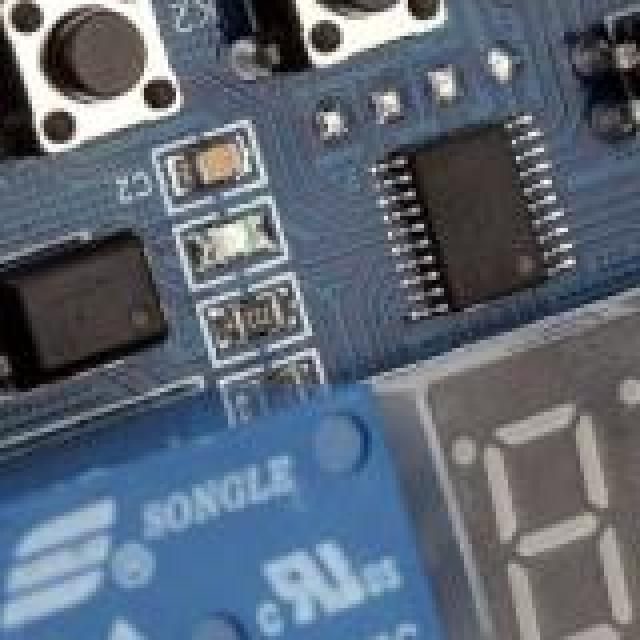IC: (400, 112, 558, 318), (0, 224, 160, 380), (600, 0, 640, 128)
LED: (196, 196, 270, 266)
capacitor: (184, 132, 256, 194), (0, 300, 4, 464)
display: (424, 224, 640, 640)
relay: (0, 432, 444, 640)
resistor: (224, 292, 304, 344)
switch: (0, 0, 176, 132), (264, 0, 452, 60)
